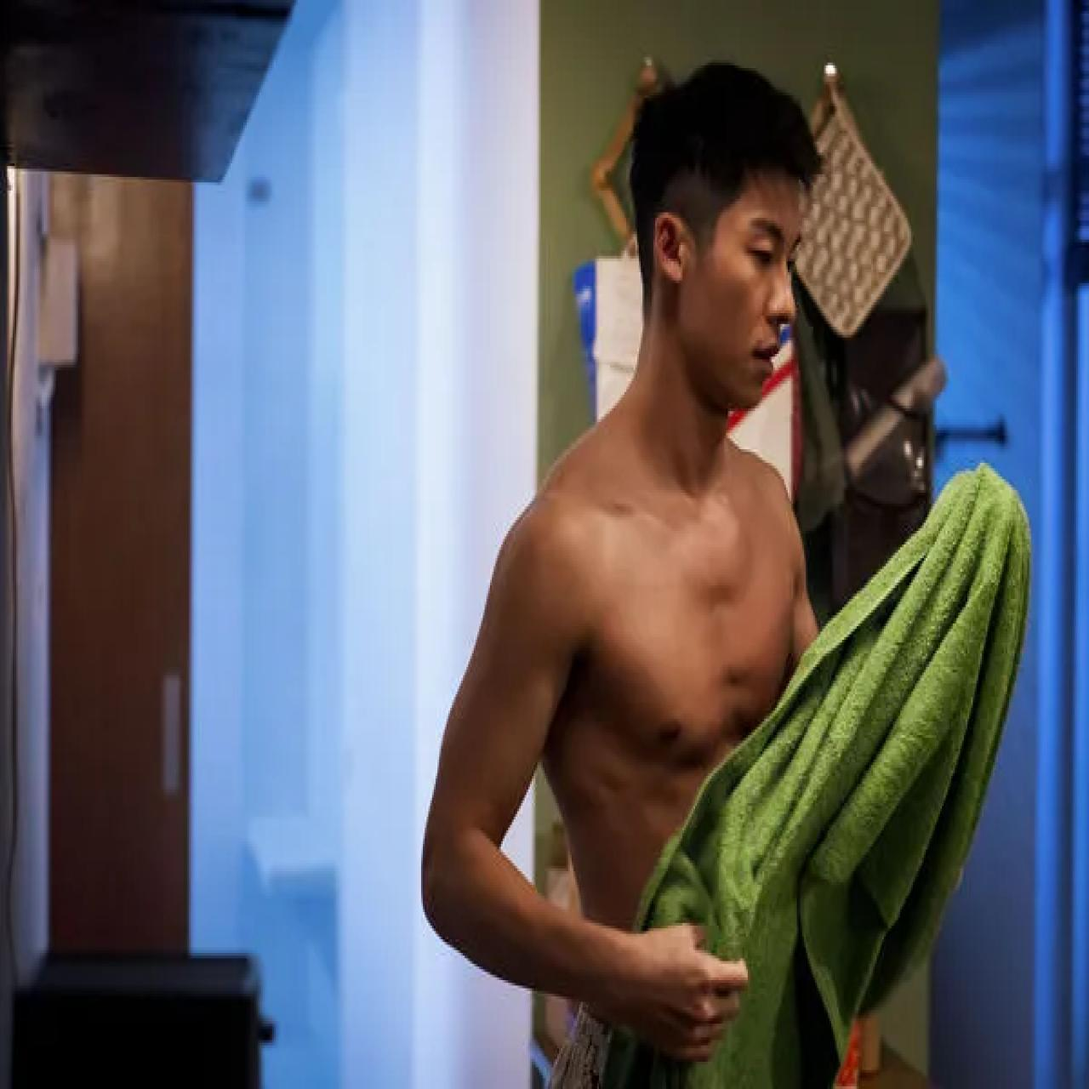NO_Safety_Vest: (474, 424, 821, 1056)
Person: (392, 43, 844, 1089)
